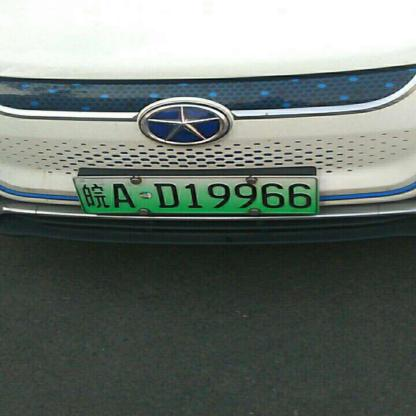lp: (74, 178, 316, 214)
